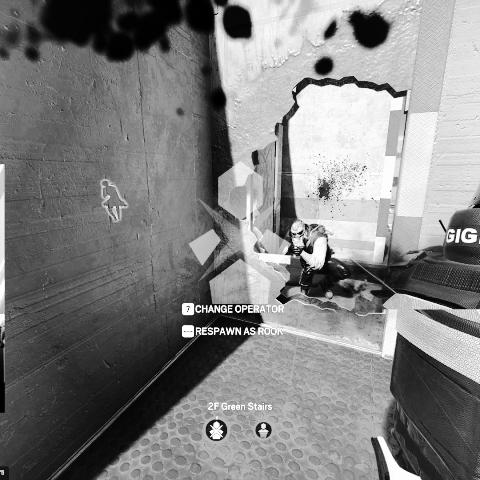Character: (370, 178, 479, 480), (275, 217, 353, 301)
Head: (290, 220, 308, 248)
